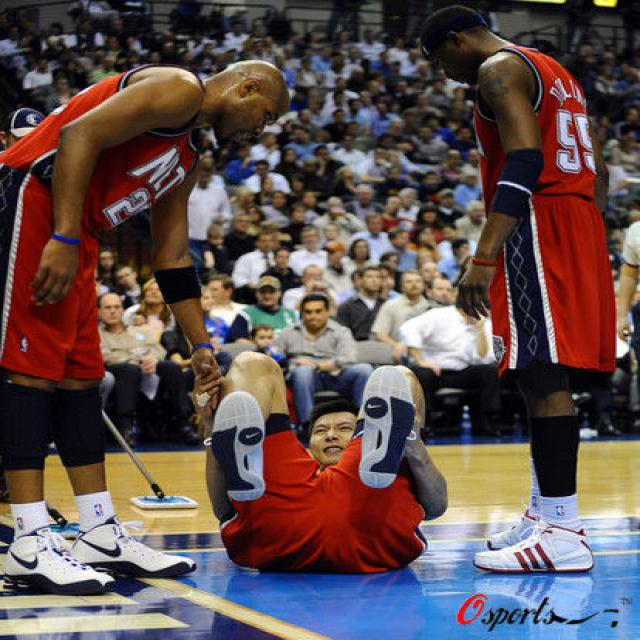10-: (5, 0, 635, 587)
down: (201, 352, 448, 575)
